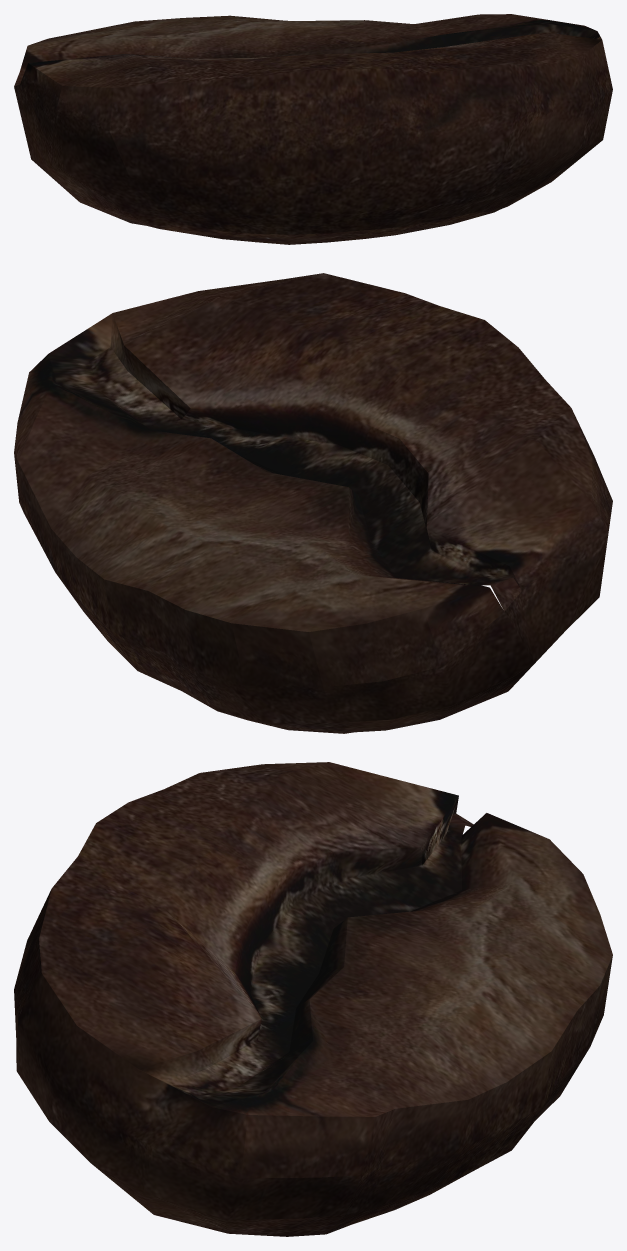
File: coffee_bean_v2.gltf
3 renders of one model, top to bottom at view 1: azimuth 30°, elevation 25°; view 2: azimuth 150°, elevation 25°; view 3: azimuth 270°, elevation 25°, orthographic. The views are drawn at different scales.
Parts seen in each view (by area): view 1: BEAN; view 2: BEAN; view 3: BEAN.
Part boxes in pixels (<box>): BEAN: <box>14,14,612,244</box>; BEAN: <box>14,273,612,733</box>; BEAN: <box>14,762,612,1236</box>.
Size of the model in its own units: 11.17 by 5 by 8.93.
Materials: 1 (1 with a texture image).
